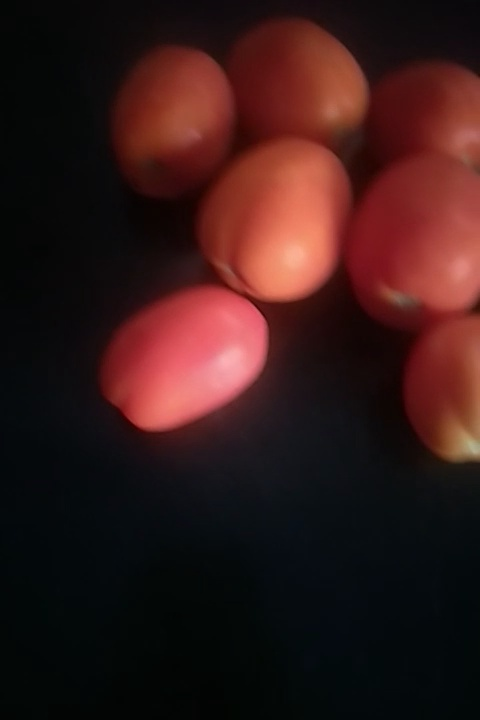tomato: (101, 279, 271, 433), (195, 138, 349, 303), (342, 152, 480, 321), (104, 35, 234, 200), (226, 22, 381, 156), (393, 311, 480, 466), (362, 60, 480, 171)
